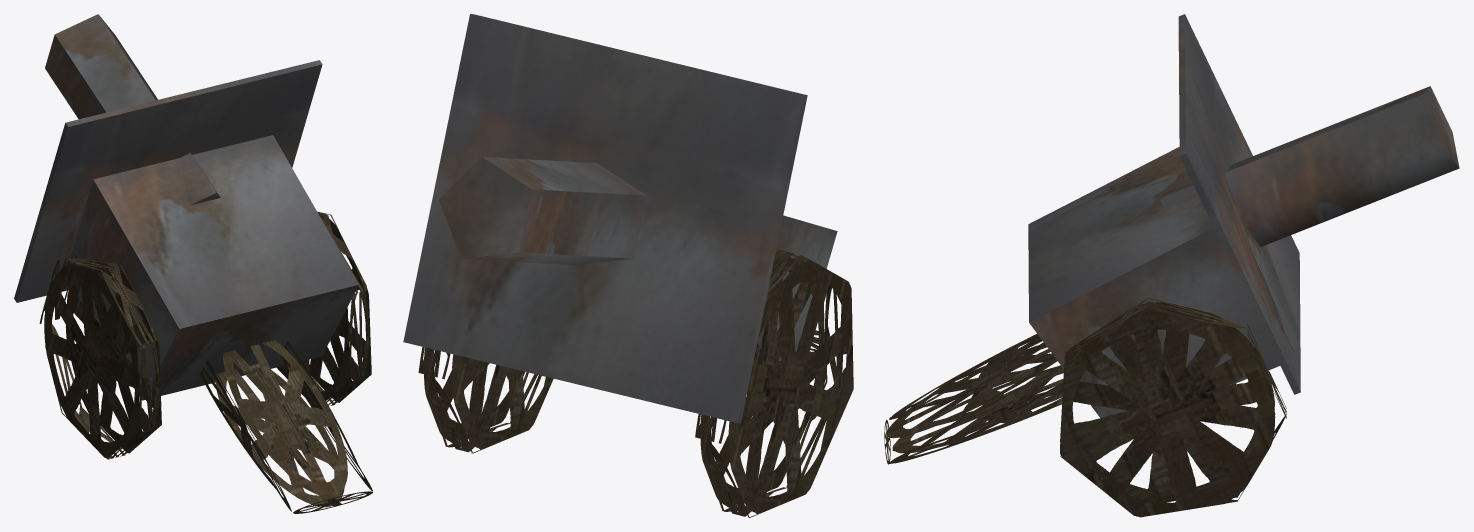
File: wheelgun.gltf
3 renders of one model, left to right at view 1: azimuth 30°, elevation 25°; view 2: azimuth 150°, elevation 25°; view 3: azimuth 270°, elevation 25°, orthographic. The views are drawn at different scales.
Parts seen in each view (by area): view 1: wheelgun_atomic0; view 2: wheelgun_atomic0; view 3: wheelgun_atomic0.
Part boxes in pixels (<box>): wheelgun_atomic0: <box>14,14,372,513</box>; wheelgun_atomic0: <box>403,14,853,517</box>; wheelgun_atomic0: <box>884,14,1459,517</box>.
Bounding box in the file's own units: 2.91 × 3.57 × 5.07.
Materials: 3 (3 with a texture image).
